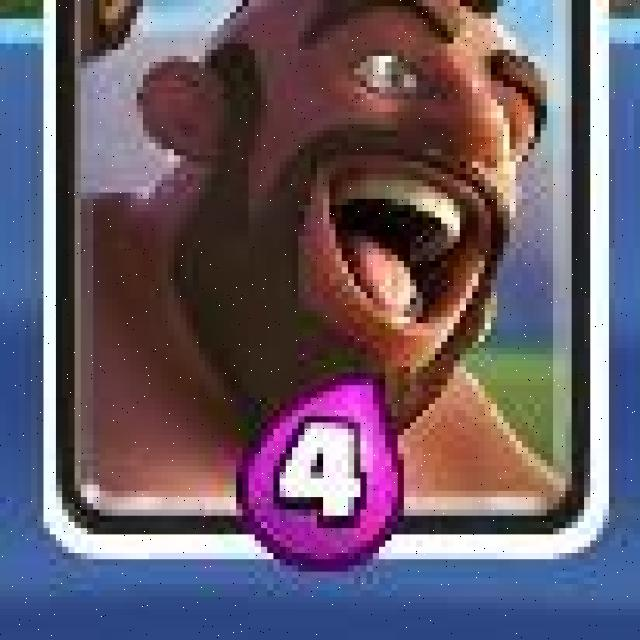Hog_Rider: (40, 0, 612, 564)
